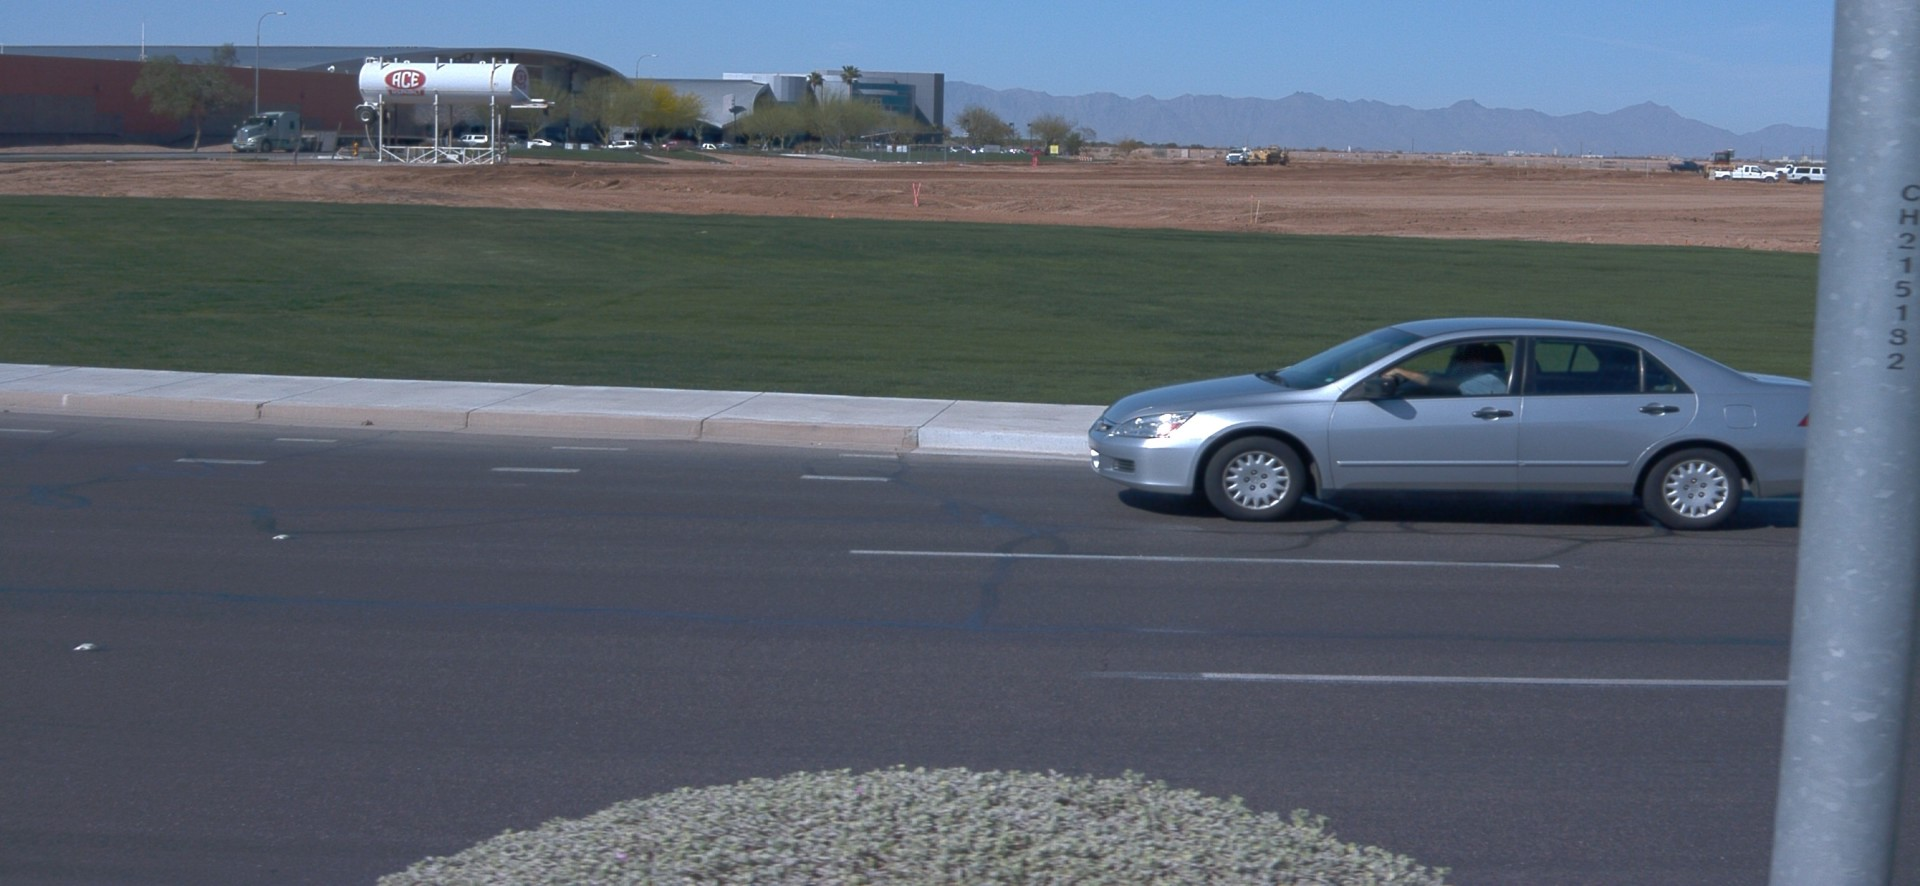TYPE_VEHICLE: (1087, 314, 1813, 532), (233, 108, 425, 158), (1714, 164, 1781, 185), (1701, 149, 1738, 179), (1236, 142, 1285, 163), (1786, 166, 1828, 185), (1664, 163, 1706, 176), (1225, 147, 1249, 167), (605, 138, 638, 149), (492, 135, 525, 146), (456, 133, 488, 144), (1775, 166, 1795, 177), (534, 139, 555, 145), (704, 142, 717, 147), (509, 133, 514, 136)
